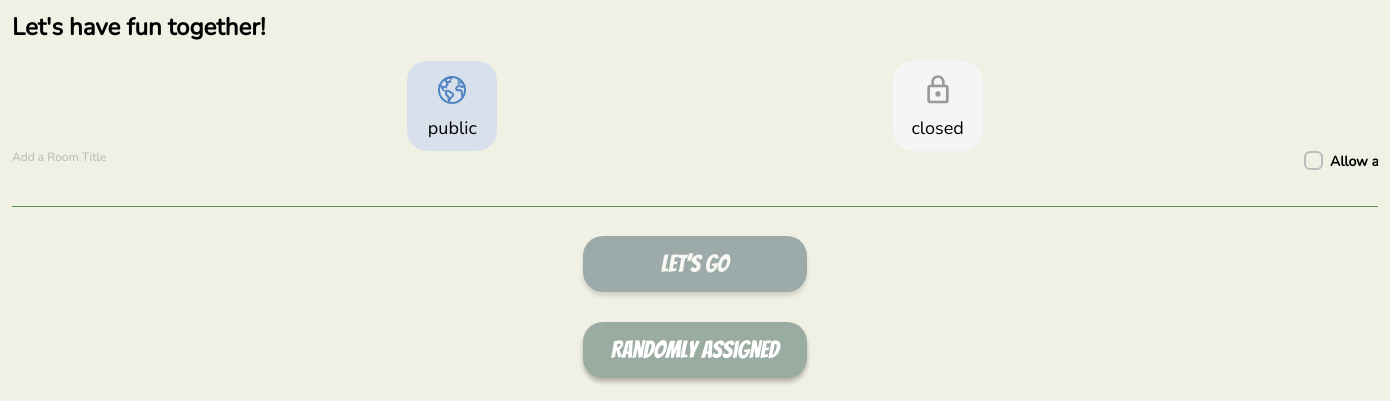
Test: RoomModal 테스트 › 양식에 맞게 다 입력한 경우 Letsgo 버튼이 활성화 되는가?
Check: the button "Let's Go" is disabled, box [583, 236, 807, 292]
Type "input title" into the field with test id "TitleInputbar" at x=695, y=186, box [12, 165, 1378, 207]
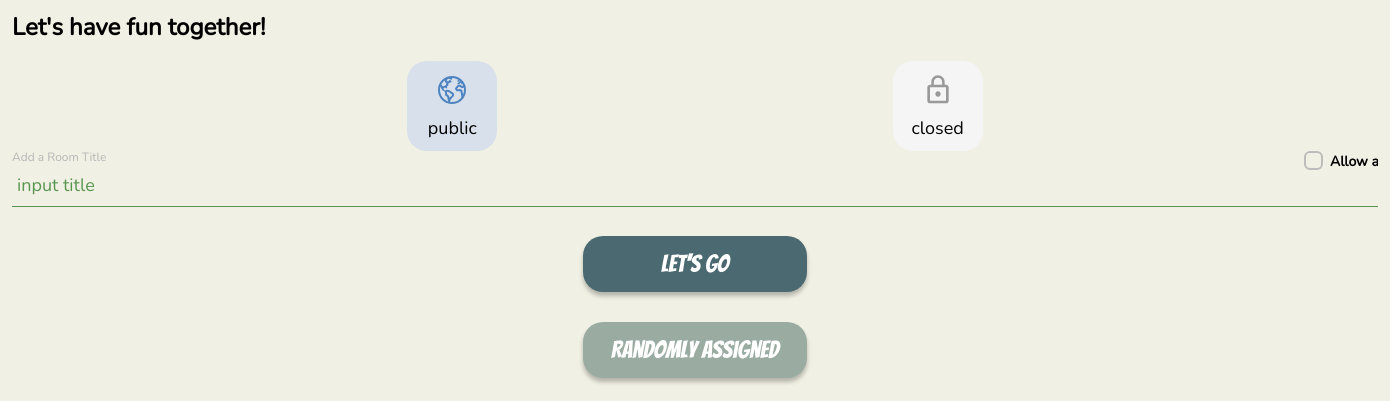
Check: the button "Let's Go" is enabled, box [583, 236, 807, 292]
